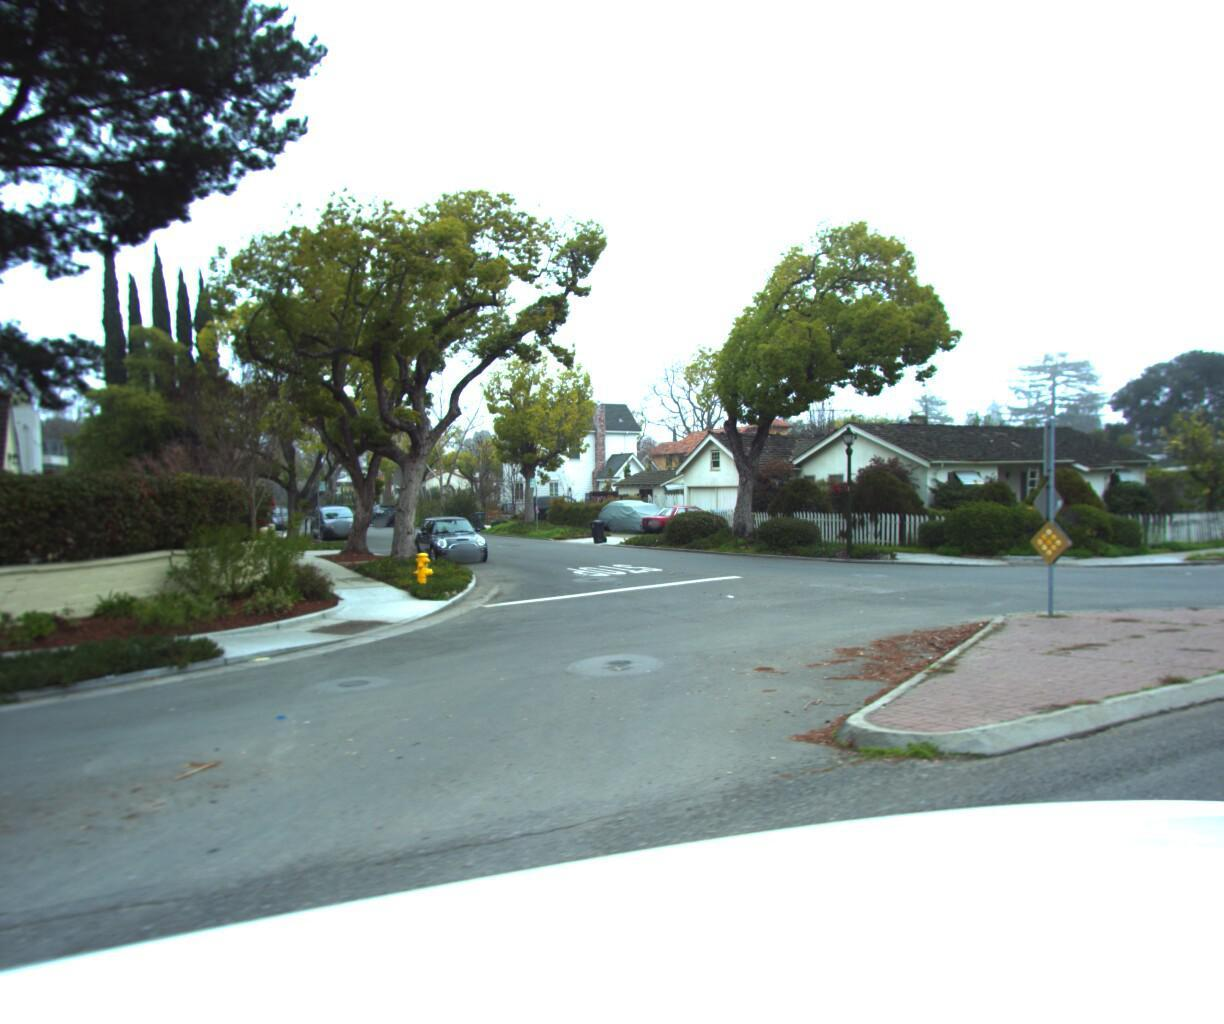car: (407, 510, 499, 564), (639, 499, 734, 535), (596, 495, 679, 535), (313, 503, 371, 540), (363, 499, 409, 526)
